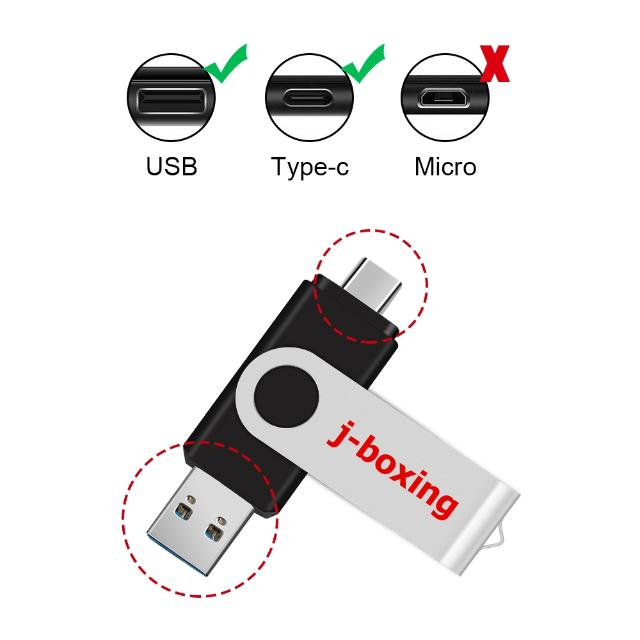USB-Flash-Drive: (118, 227, 519, 602)
